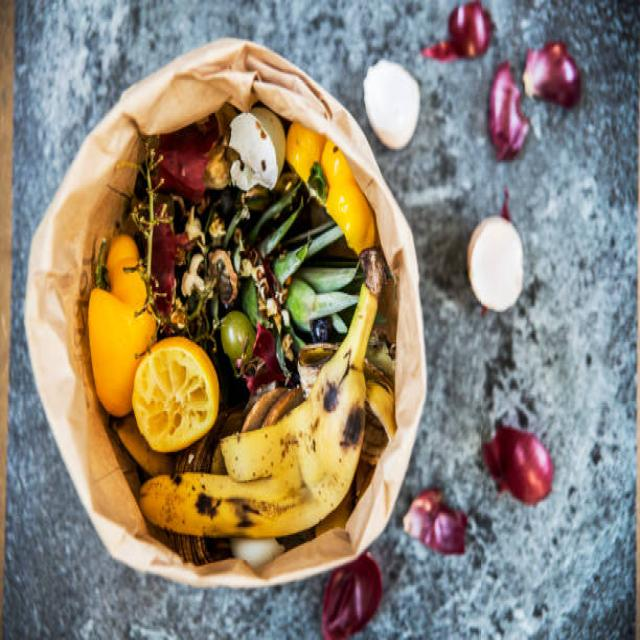paper: (486, 392, 573, 528), (459, 205, 543, 340), (81, 280, 152, 427), (134, 333, 213, 454), (352, 48, 426, 156), (226, 104, 290, 196), (415, 492, 489, 570), (482, 61, 525, 188)
